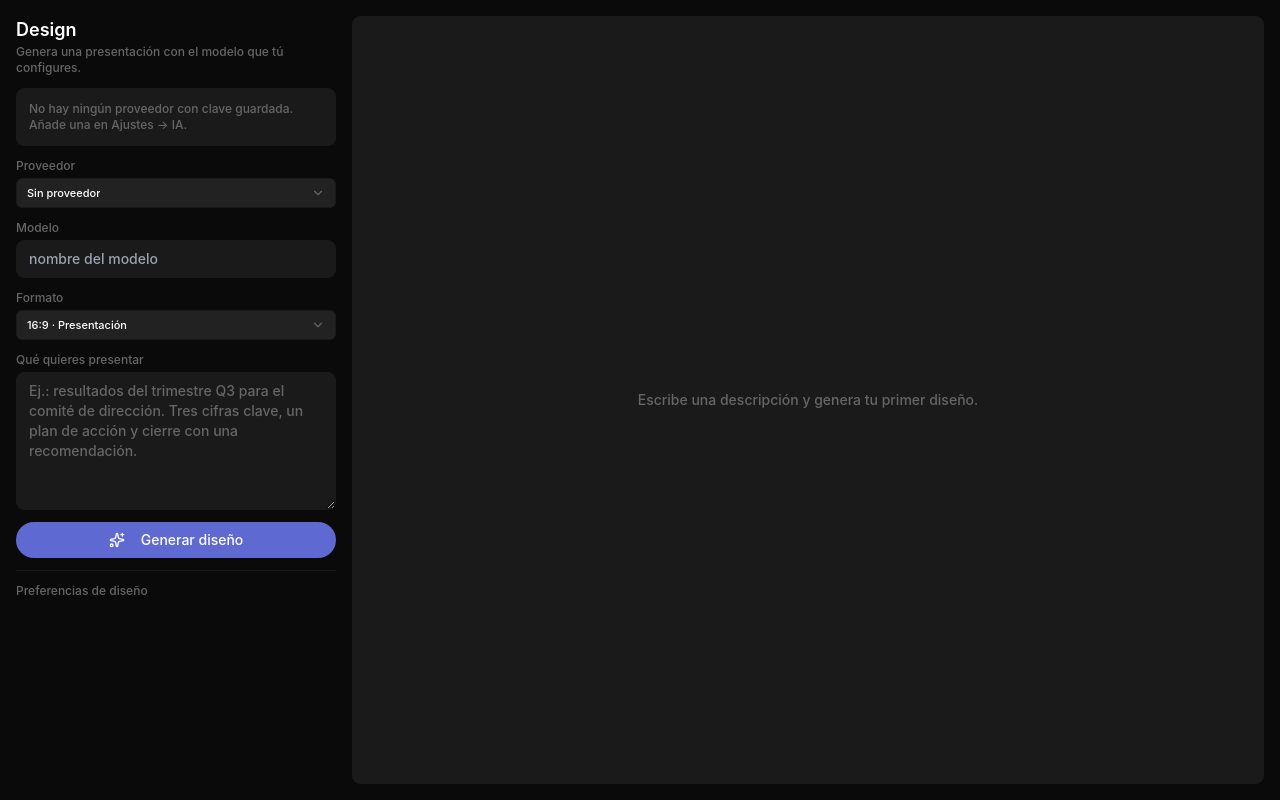
Test: DesignApp › solo ofrece proveedores configurados
What coordinates should you click on to do the following:
click the button "Sin proveedor"
I would click on:
 (64, 193)
Its box is [16,178,336,208].
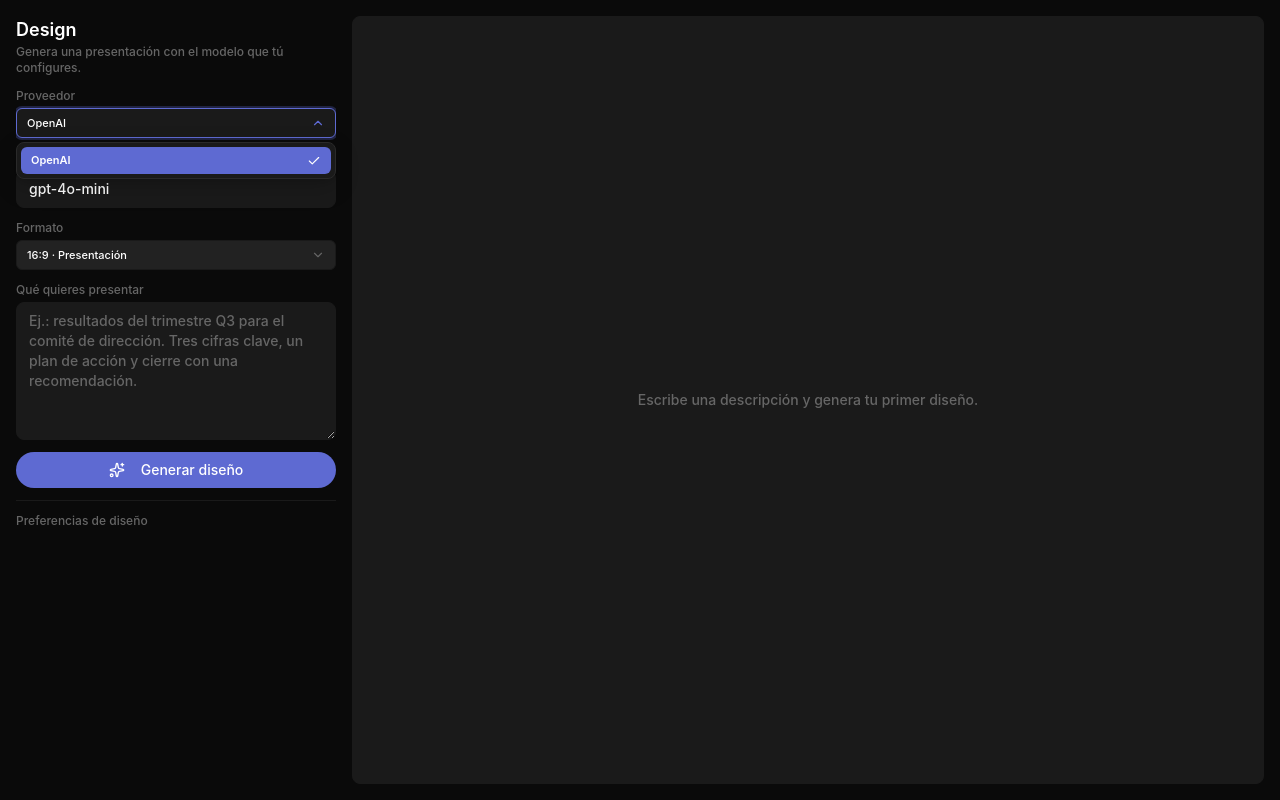
Expected: the option "OpenAI" is shown, [21,147,331,174]
